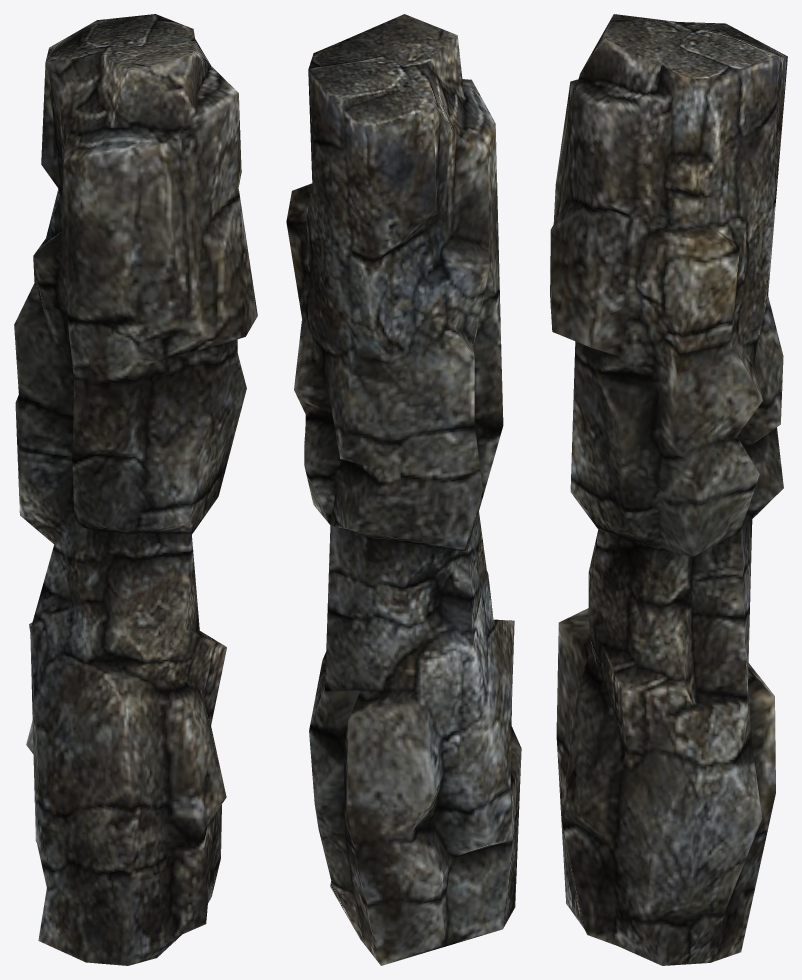
File: Rock1.fbx
3 renders of one model, left to right at view 1: azimuth 30°, elevation 25°; view 2: azimuth 150°, elevation 25°; view 3: azimuth 270°, elevation 25°, orthographic. The views are drawn at different scales.
Visible parts, largest first — view 1: Rock1; view 2: Rock1; view 3: Rock1.
Part boxes in pixels (x1,y1,x2,y2): Rock1: (14, 14, 257, 965); Rock1: (286, 14, 521, 965); Rock1: (550, 14, 787, 965).
Bounding box in the file's own units: 6.31 × 27.16 × 6.27.
